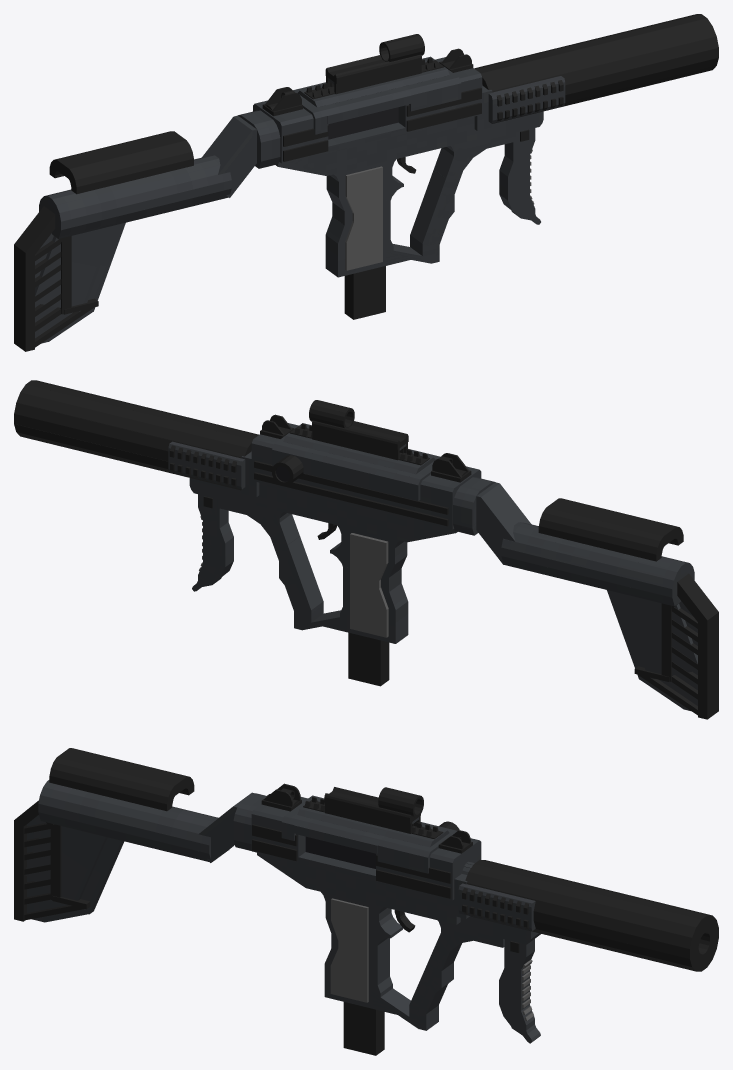
The picture shows the model from 3 angles, top to bottom: view 1: azimuth 30°, elevation 25°; view 2: azimuth 150°, elevation 25°; view 3: azimuth 330°, elevation 25°; orthographic projection.
Parts seen in each view (by area): view 1: UziProooNeuwieder; view 2: UziProooNeuwieder; view 3: UziProooNeuwieder.
Boxes of the visible parts, box(x1,y1,x2,y2) form: UziProooNeuwieder: box(14, 14, 718, 351); UziProooNeuwieder: box(14, 380, 718, 719); UziProooNeuwieder: box(14, 748, 718, 1055).
Size of the model in its own units: 4497 by 1663 by 509.
1 material, 1 textured.
